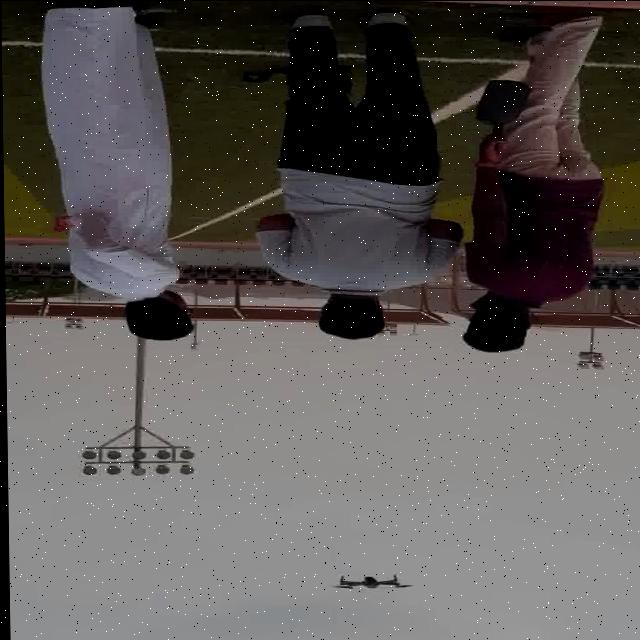drone: (319, 570, 414, 598)
